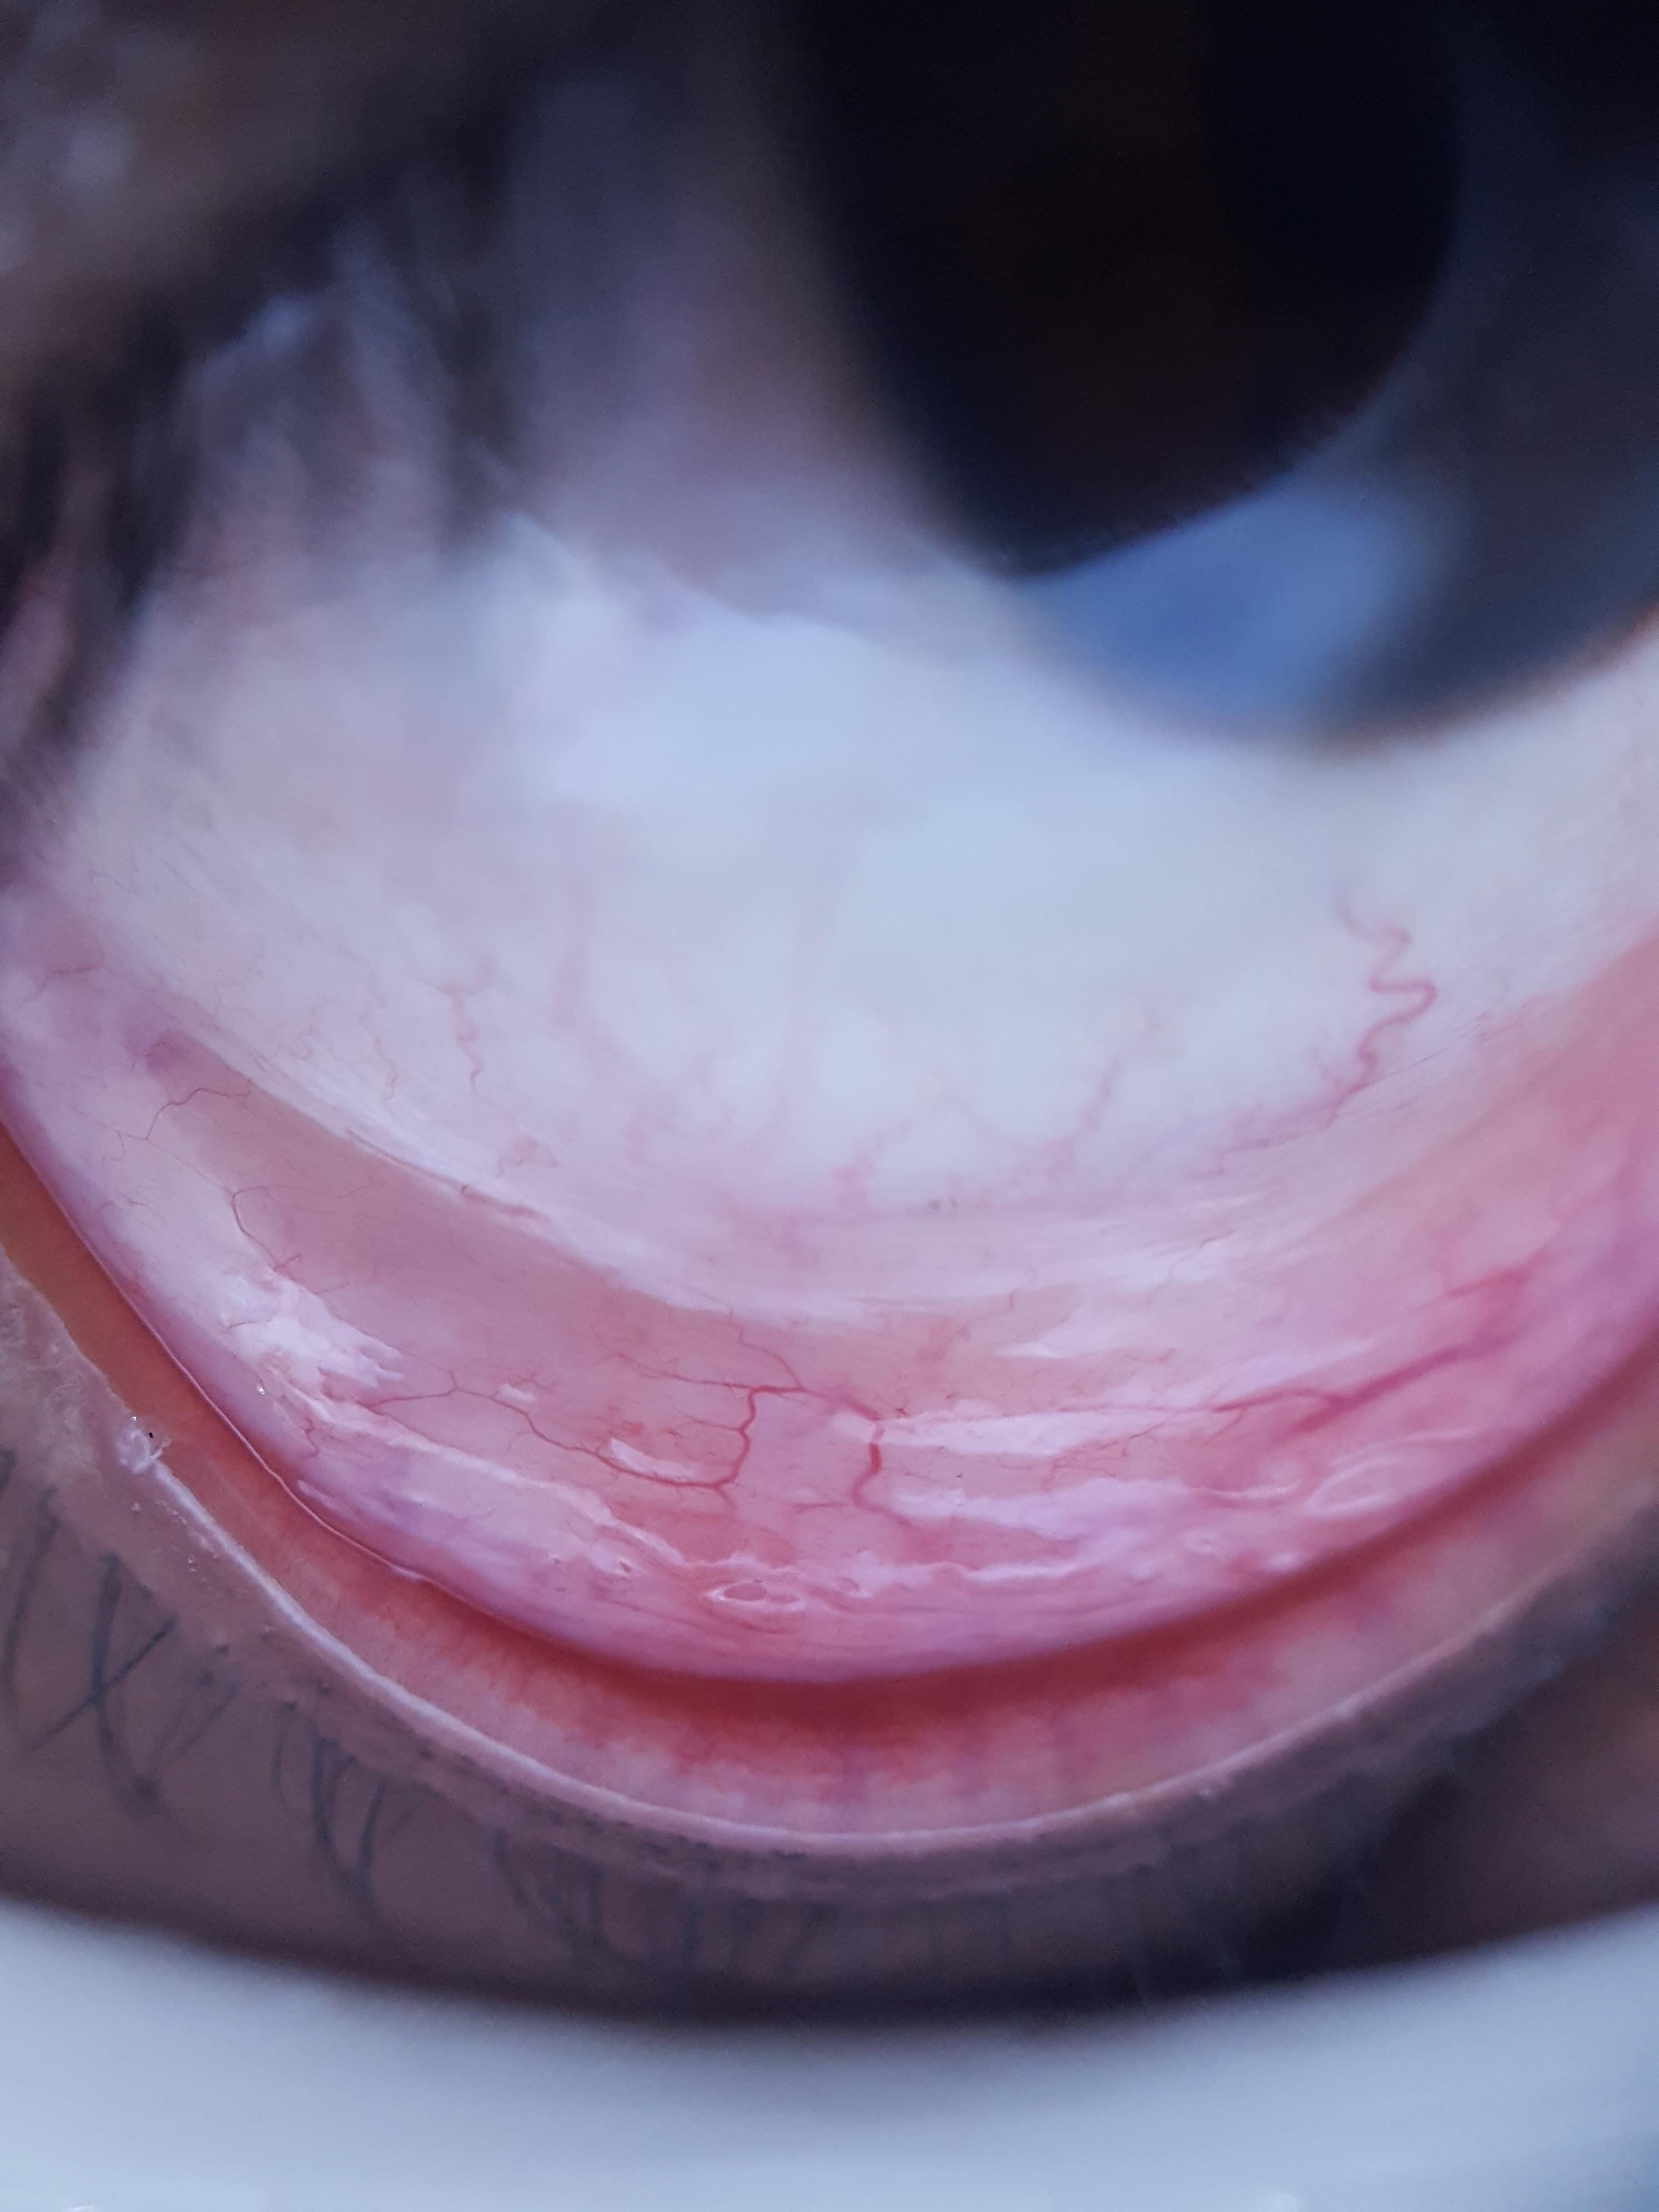forniceal: (3, 831, 1659, 1679)
forniceal_palpebral: (0, 817, 1659, 1817)
palpebral: (0, 1127, 1659, 1801)
